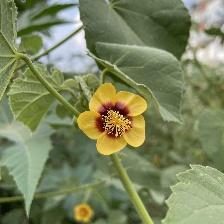indian mallow: (76, 83, 151, 159)
